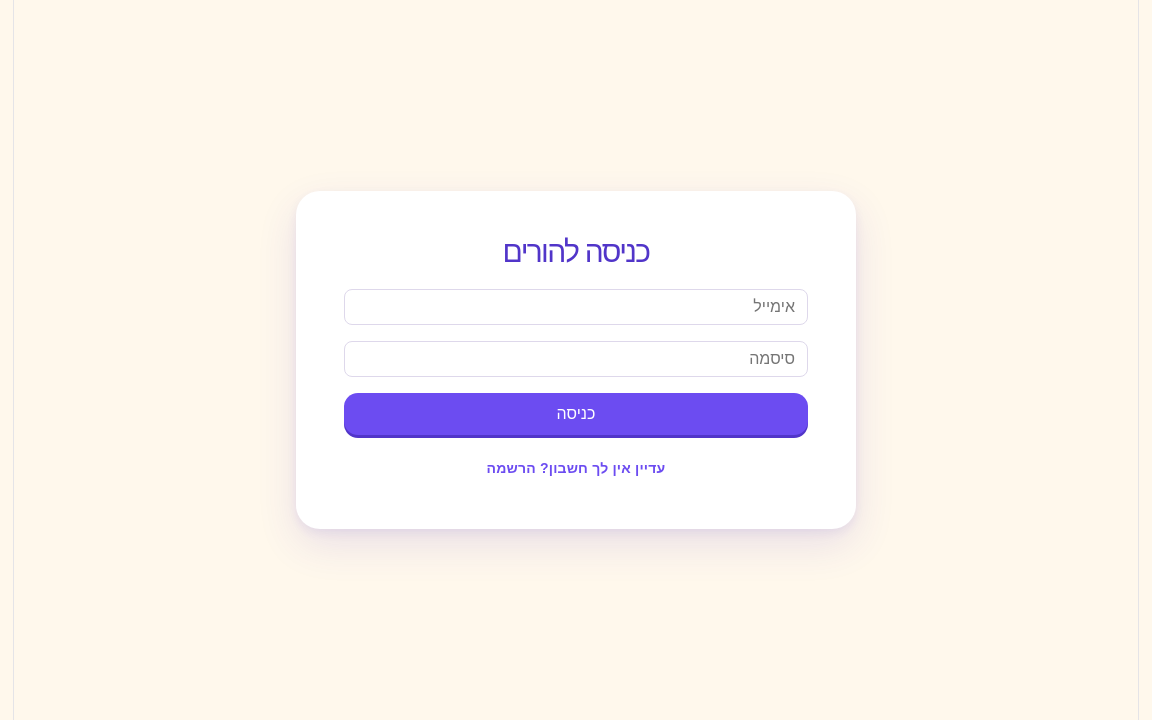
Test: App login flow › a successful login navigates to /children
Type "parent@example.com" into the field labelled "אימייל".
click(576, 307); type("parent@example.com")  # box [344,289,808,325]
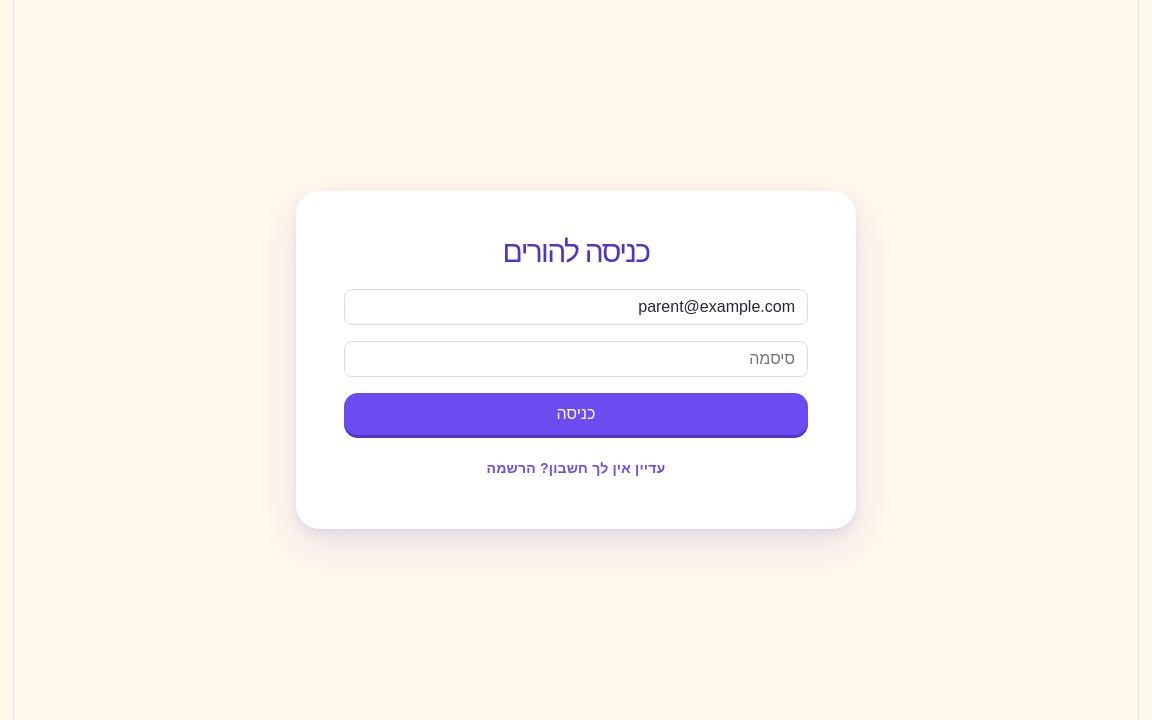
Type "correct-horse" into the password field labelled "סיסמה".
click(576, 359); type("correct-horse")  # box [344,341,808,377]
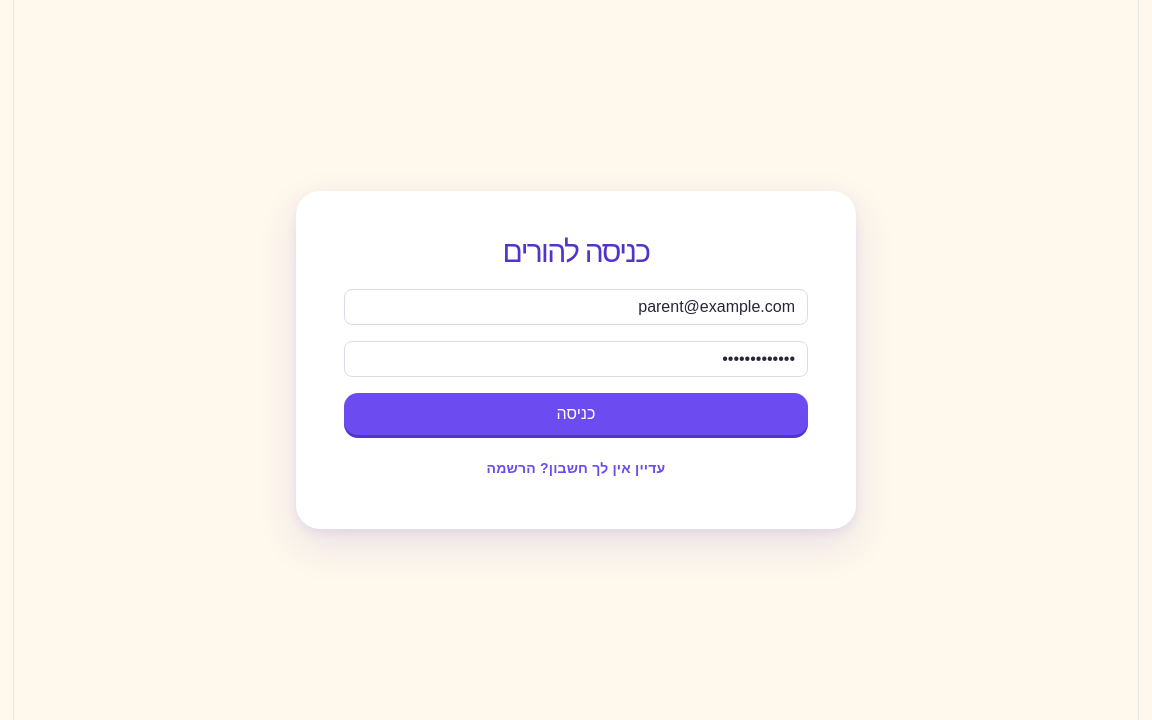
Click the button "כניסה".
click(576, 414)  # box [344,393,808,435]
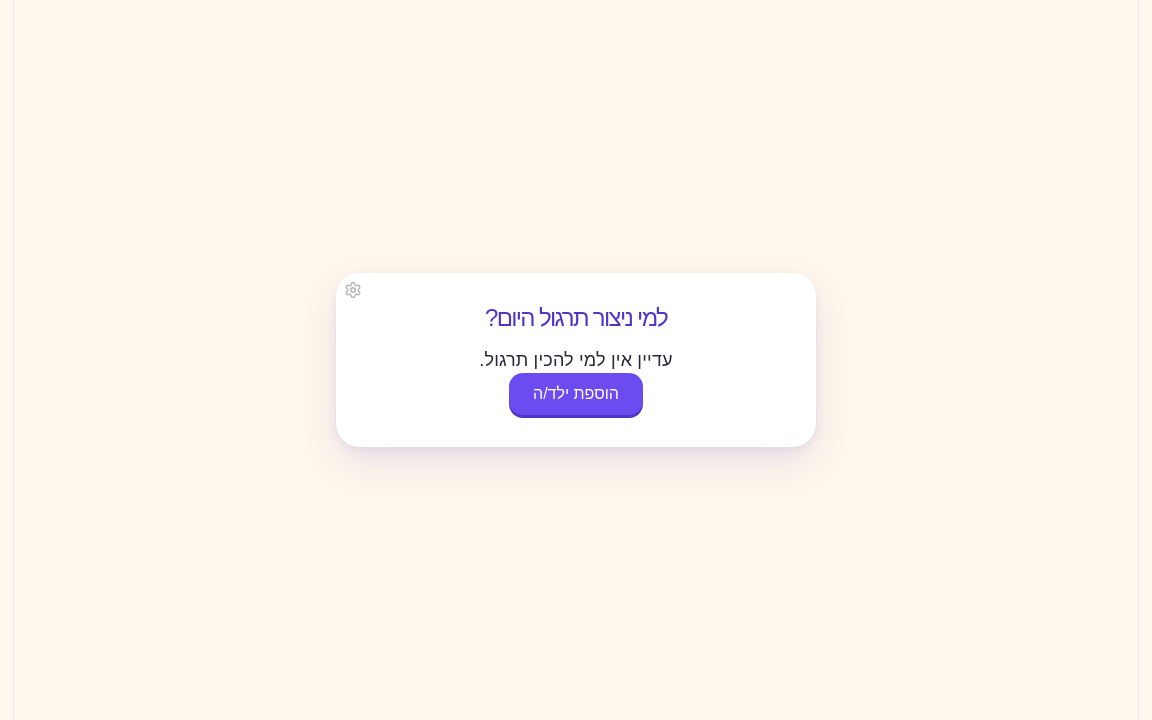
Expected: the text "עדיין אין למי להכין תרגול." is shown, [479,350,673,370]
